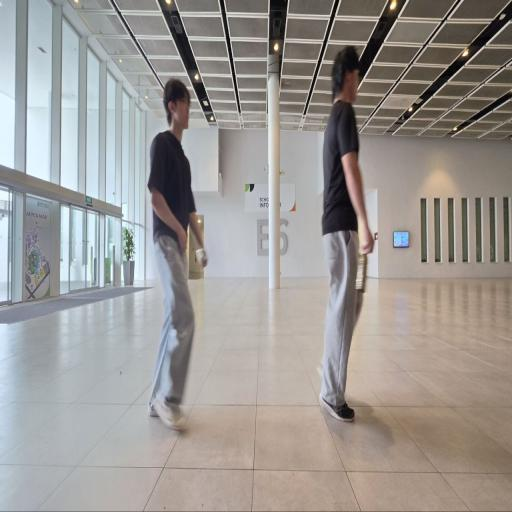person_right: (302, 52, 410, 427), (128, 62, 224, 430)
